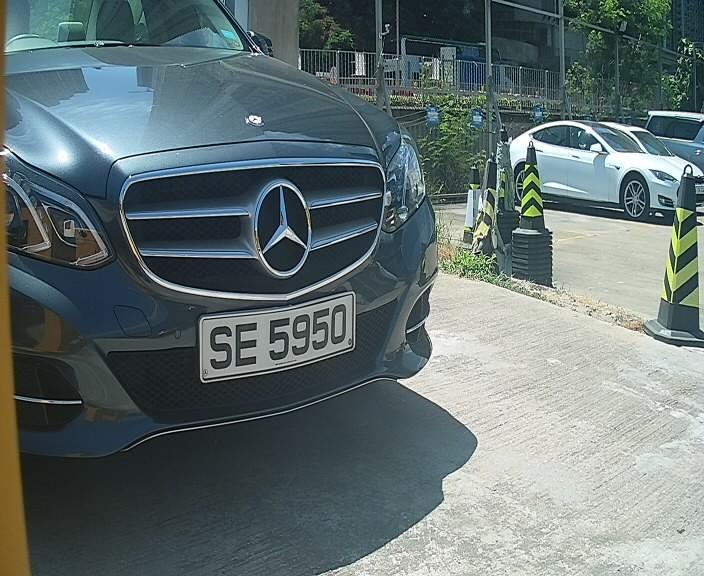privatecar: (6, 1, 457, 457)
